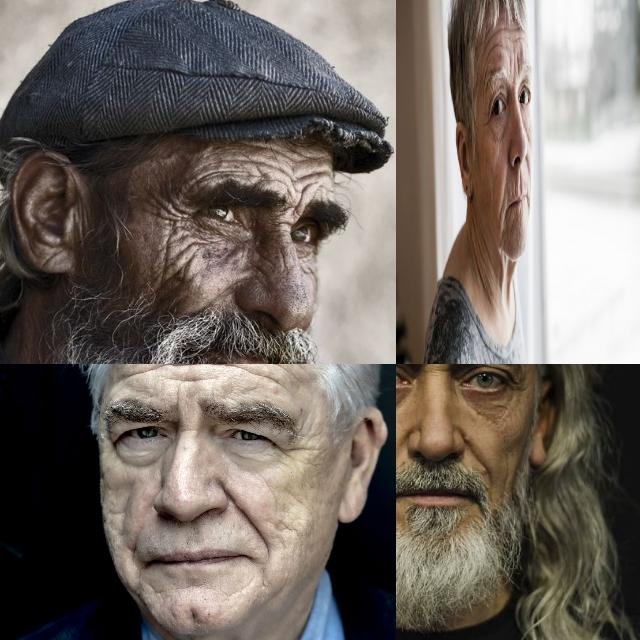bunny_line: (246, 246, 274, 276), (276, 245, 290, 273)
chin: (508, 206, 526, 226), (501, 222, 508, 251)
crows_feet: (147, 204, 195, 254), (270, 433, 308, 462), (509, 377, 531, 397), (482, 108, 492, 130)
forehead: (228, 154, 334, 190), (138, 176, 170, 224), (237, 364, 289, 388), (177, 364, 234, 382), (122, 364, 171, 384), (484, 29, 496, 57), (481, 65, 489, 97), (498, 18, 508, 38), (514, 28, 522, 46)
frown_line: (292, 188, 306, 222), (515, 51, 520, 77), (508, 51, 512, 79)
gummy_smile: (226, 479, 274, 543), (456, 432, 489, 472), (498, 197, 504, 220)
masseter: (154, 253, 192, 290), (501, 456, 513, 504)
smoker_lines: (513, 172, 525, 190)
